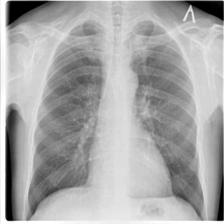tuberculosis: (24, 14, 211, 220)
